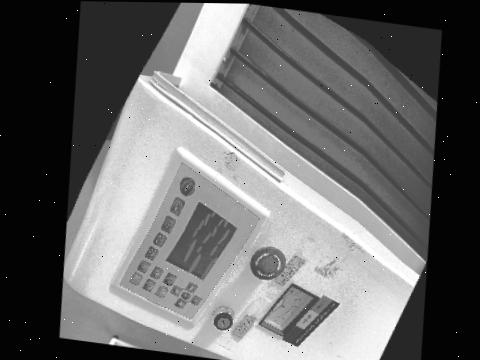Amp_Meter: (265, 285, 312, 329)
Display: (166, 201, 236, 279)
Down_button: (170, 284, 182, 295)
Emergency_Stop: (250, 245, 287, 279)
Enter_button: (155, 284, 169, 297)
Esc_button: (163, 272, 177, 285)
File_button: (137, 259, 151, 272)
Frame_button: (143, 278, 156, 290)
Left_button: (186, 281, 198, 292)
Max-Power_button: (145, 245, 159, 259)
Min-Power_button: (153, 231, 167, 246)
Origin_button: (150, 265, 164, 278)
Power_switch: (213, 305, 234, 329)
Pulse_button: (170, 195, 185, 214)
Reset_button: (180, 176, 195, 194)
Right_button: (175, 297, 186, 308)
Speed_button: (161, 214, 176, 232)
Start-Pause_button: (130, 271, 143, 284)
Up_button: (190, 294, 202, 304)
Z_U_button: (181, 289, 191, 298)
